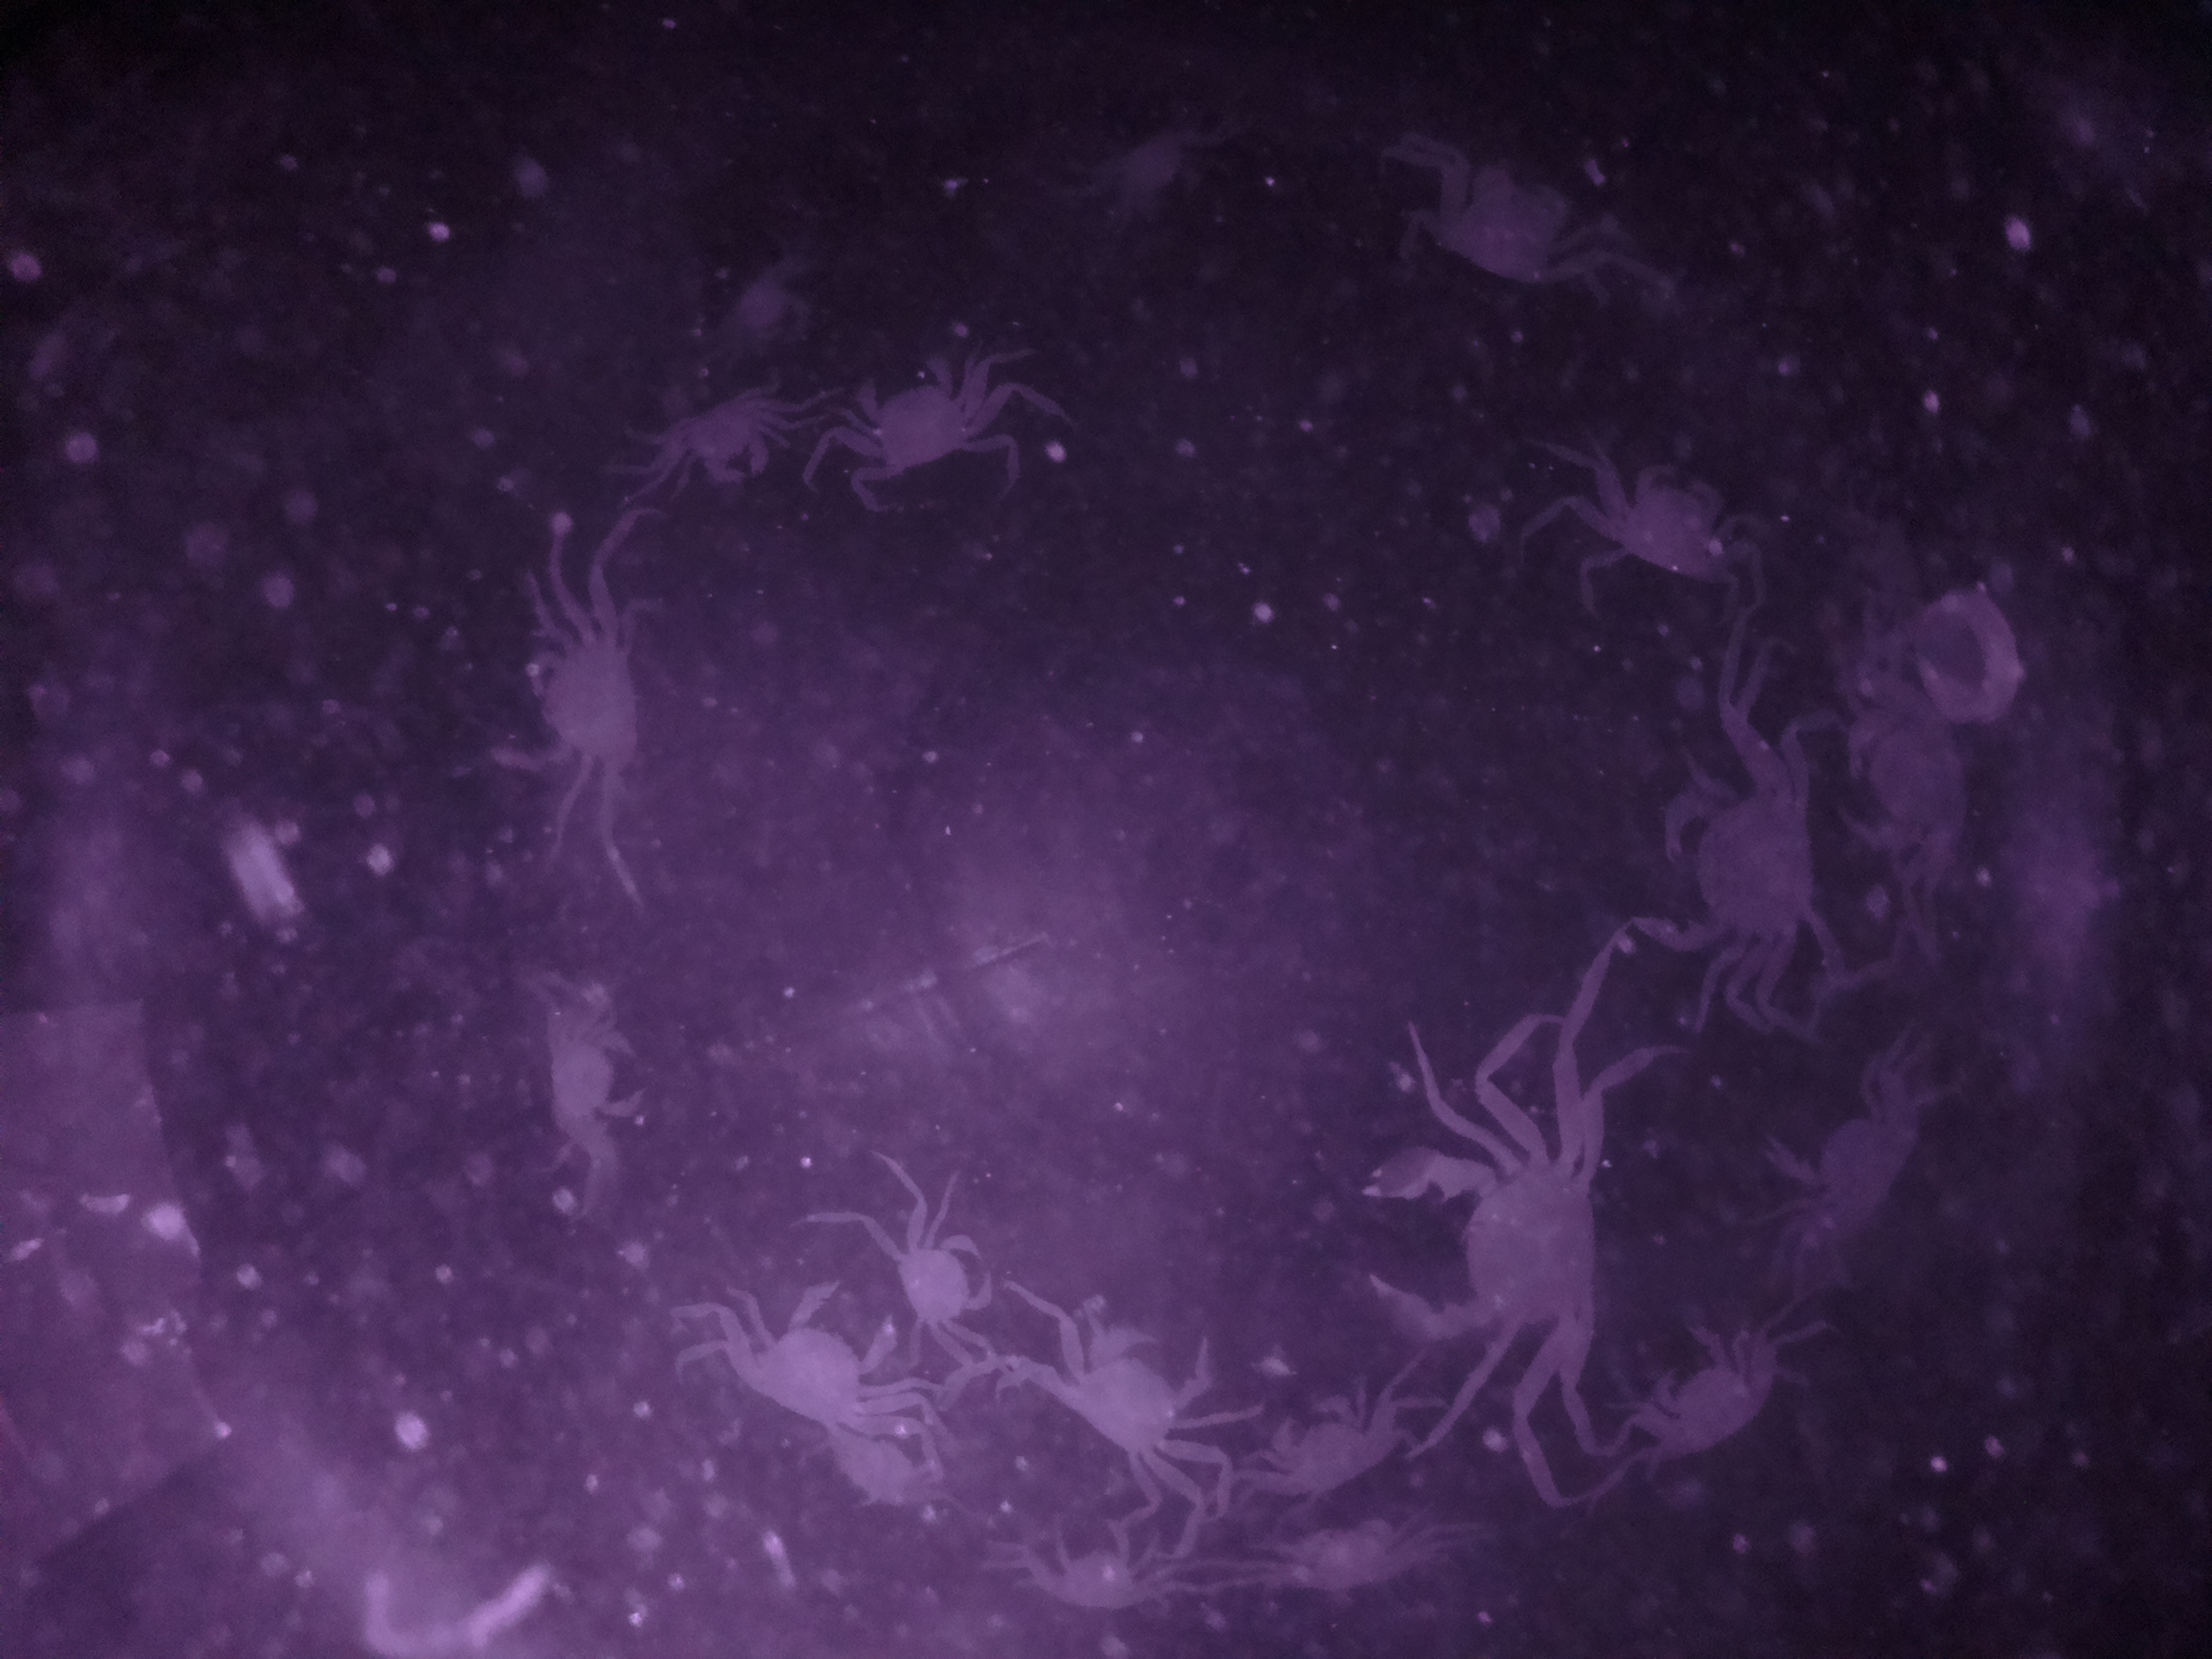Crab: (1339, 1127, 1616, 1349), (1620, 762, 1834, 967), (1561, 434, 1759, 596), (1040, 1295, 1221, 1469), (489, 608, 667, 782), (719, 1286, 902, 1438), (1611, 1317, 1785, 1474), (1249, 1373, 1423, 1511), (833, 345, 986, 497), (1012, 1506, 1172, 1633), (888, 1209, 1000, 1345), (669, 380, 784, 495)
